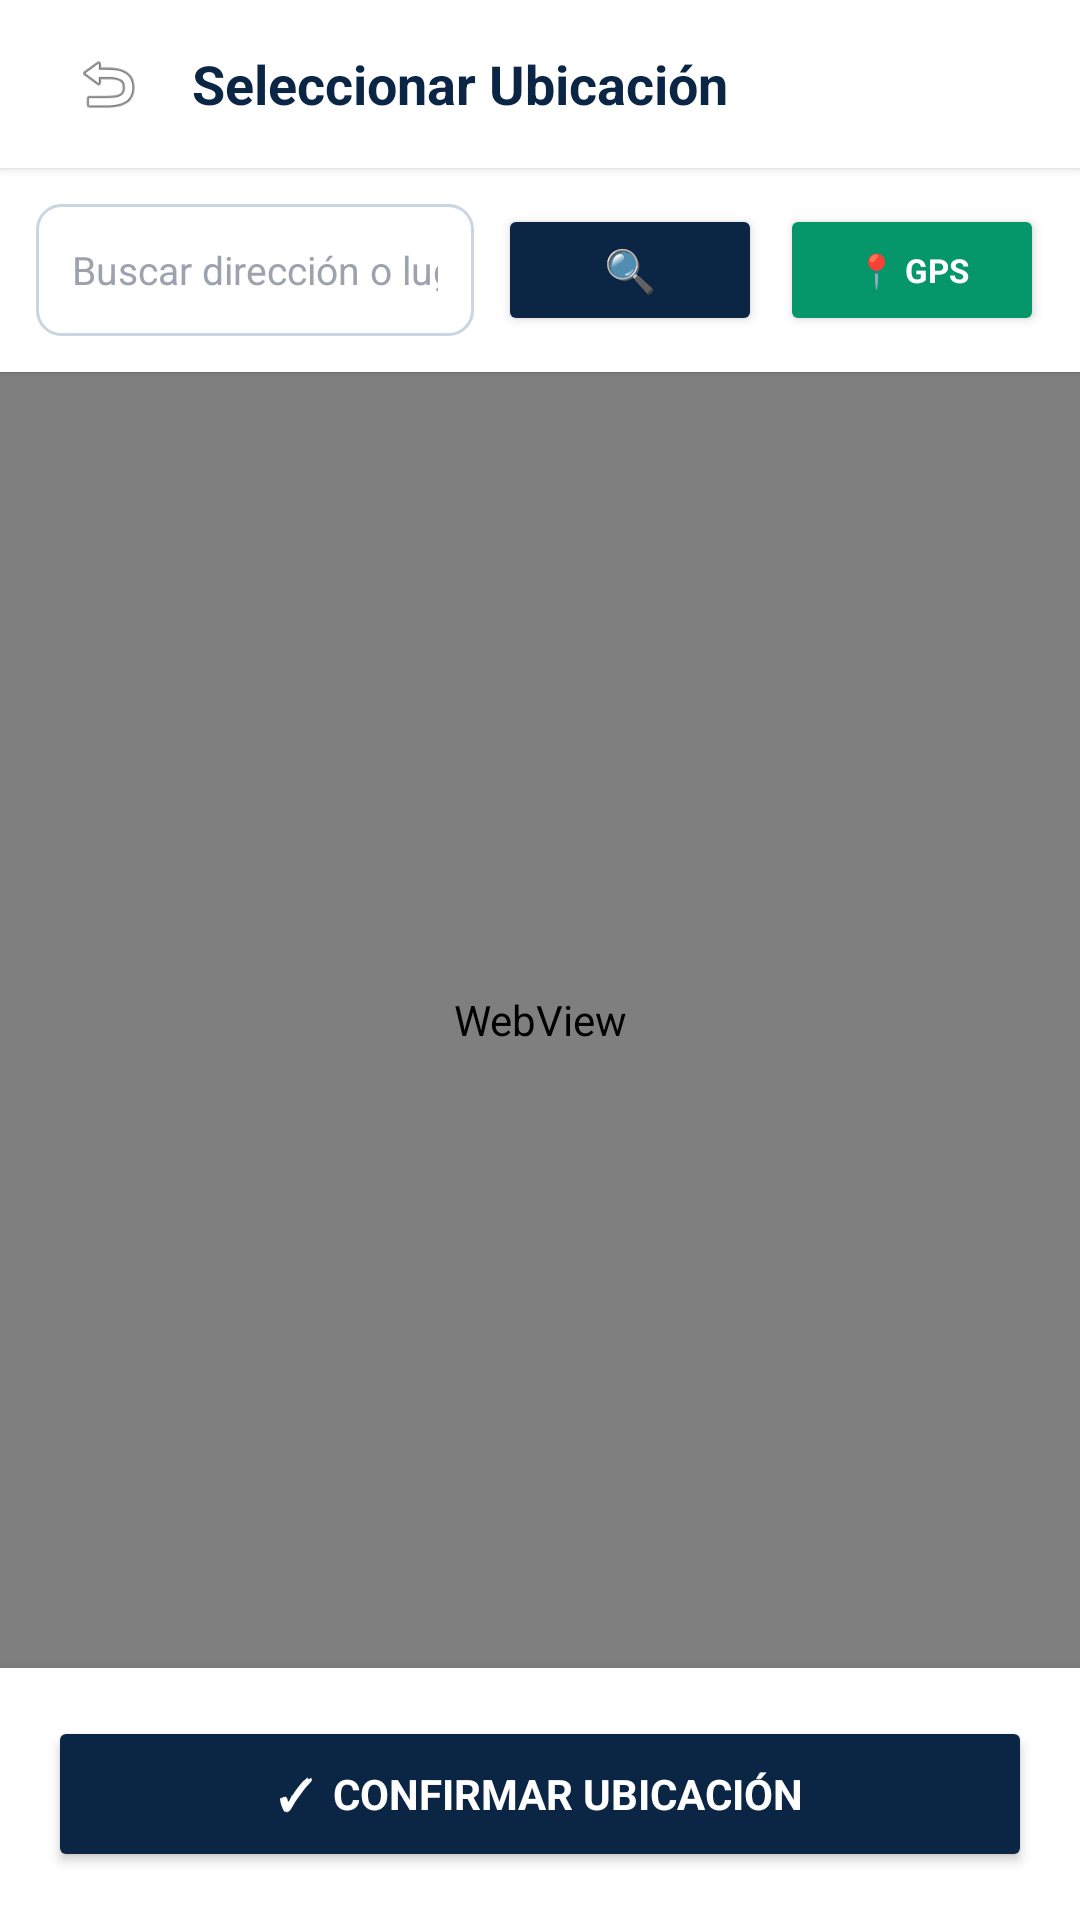

Where to tap for icons on this 1080px×1920px app screen, as point (x, y):
Regresar: point (109, 84)
